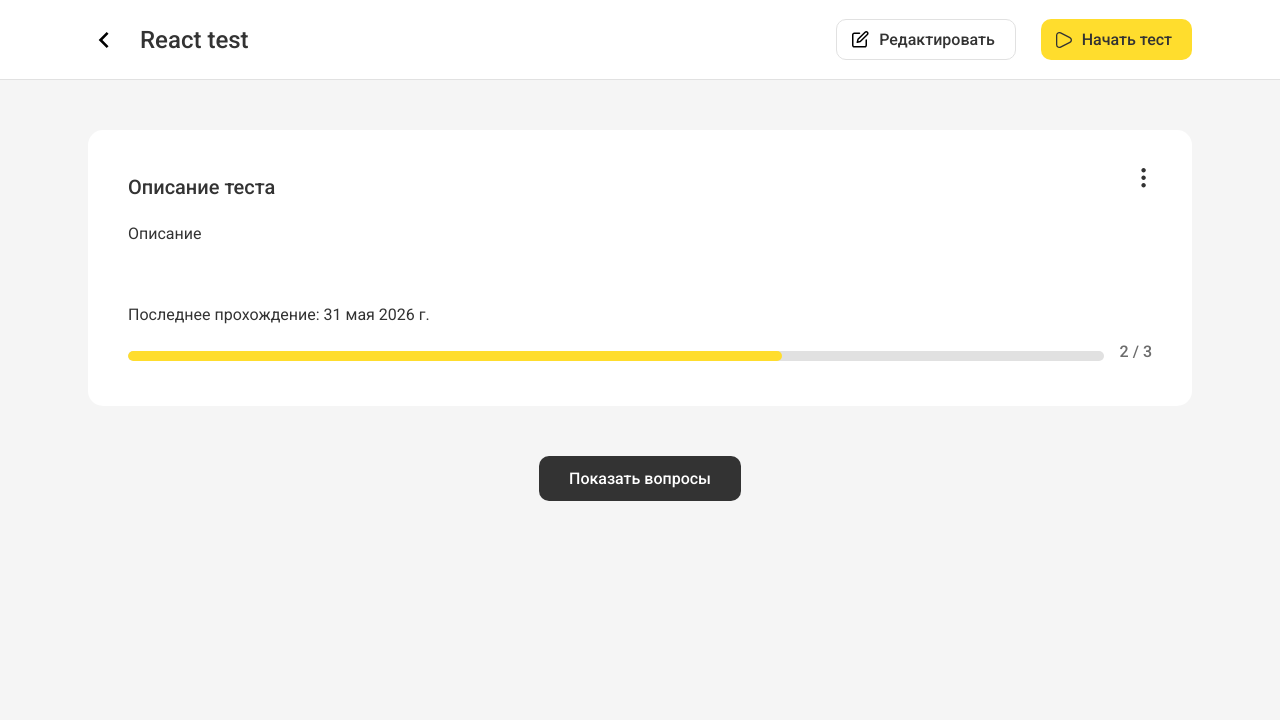
Test: TestPage › questions › shows empty questions message
Expected: the heading "React test" is shown, [140,26,249,54]
Click the button "Показать вопросы" at (640, 478), box [539,456,741,501]
(page scrolled)
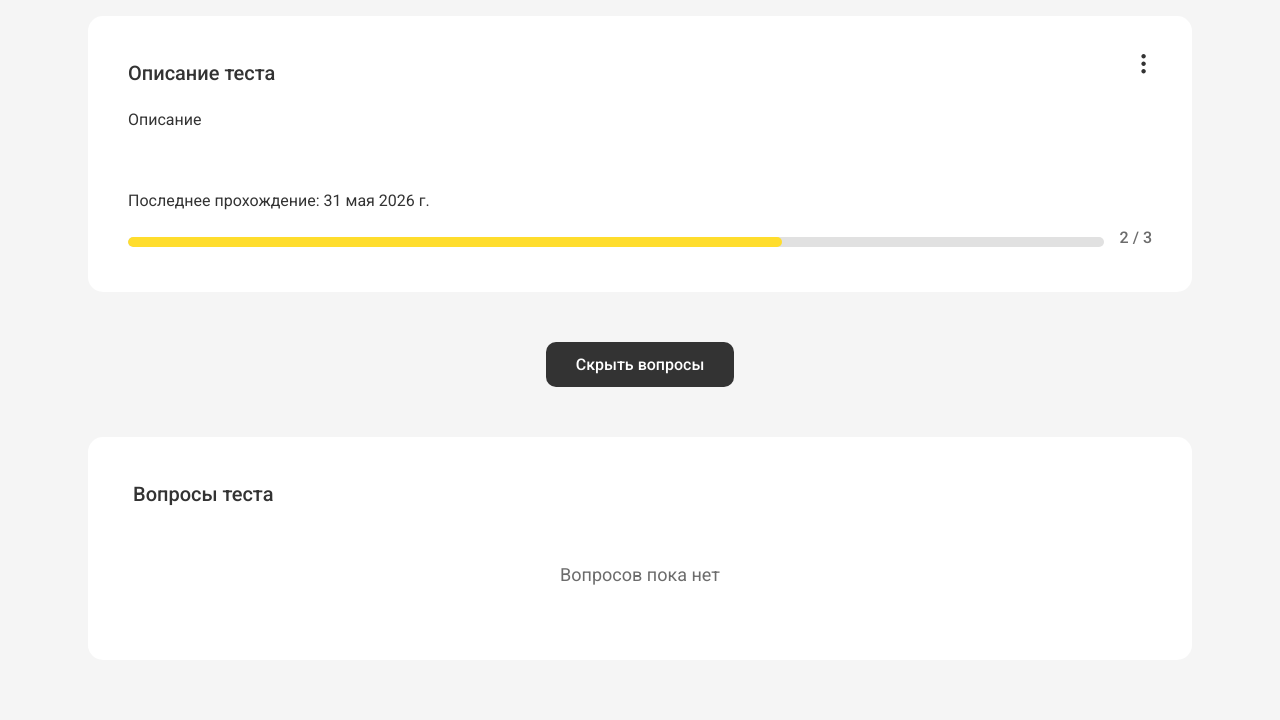
Now the text "Вопросов пока нет" is shown, box [560,564,720,585]
